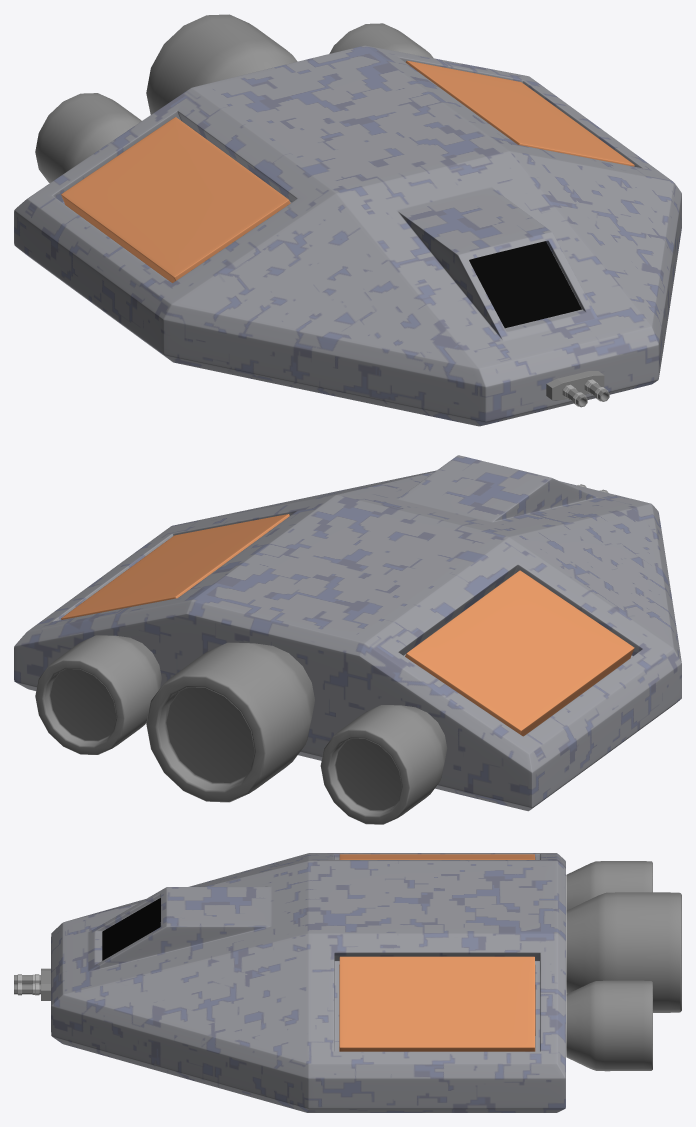
File: spaceship 2.fbx
The picture shows the model from 3 angles, top to bottom: view 1: azimuth 30°, elevation 25°; view 2: azimuth 150°, elevation 25°; view 3: azimuth 270°, elevation 25°; orthographic projection. The views are drawn at different scales.
Visible parts, largest first — view 1: spaceship v2, engine big, engine small, cannons; view 2: spaceship v2, engine small, engine big; view 3: spaceship v2, engine big, engine small, cannons.
Part boxes in pixels (x1,y1,x2,y2): spaceship v2: (14, 45, 681, 426); engine big: (146, 14, 297, 114); engine small: (35, 23, 433, 182); cannons: (546, 371, 609, 407); spaceship v2: (14, 455, 681, 811); engine small: (35, 635, 447, 824); engine big: (146, 642, 314, 802); spaceship v2: (51, 853, 565, 1112); engine big: (566, 892, 681, 1012); engine small: (566, 861, 652, 1071); cannons: (14, 968, 50, 1000).
Bounding box in the file's own units: 200 × 50.49 × 259.
